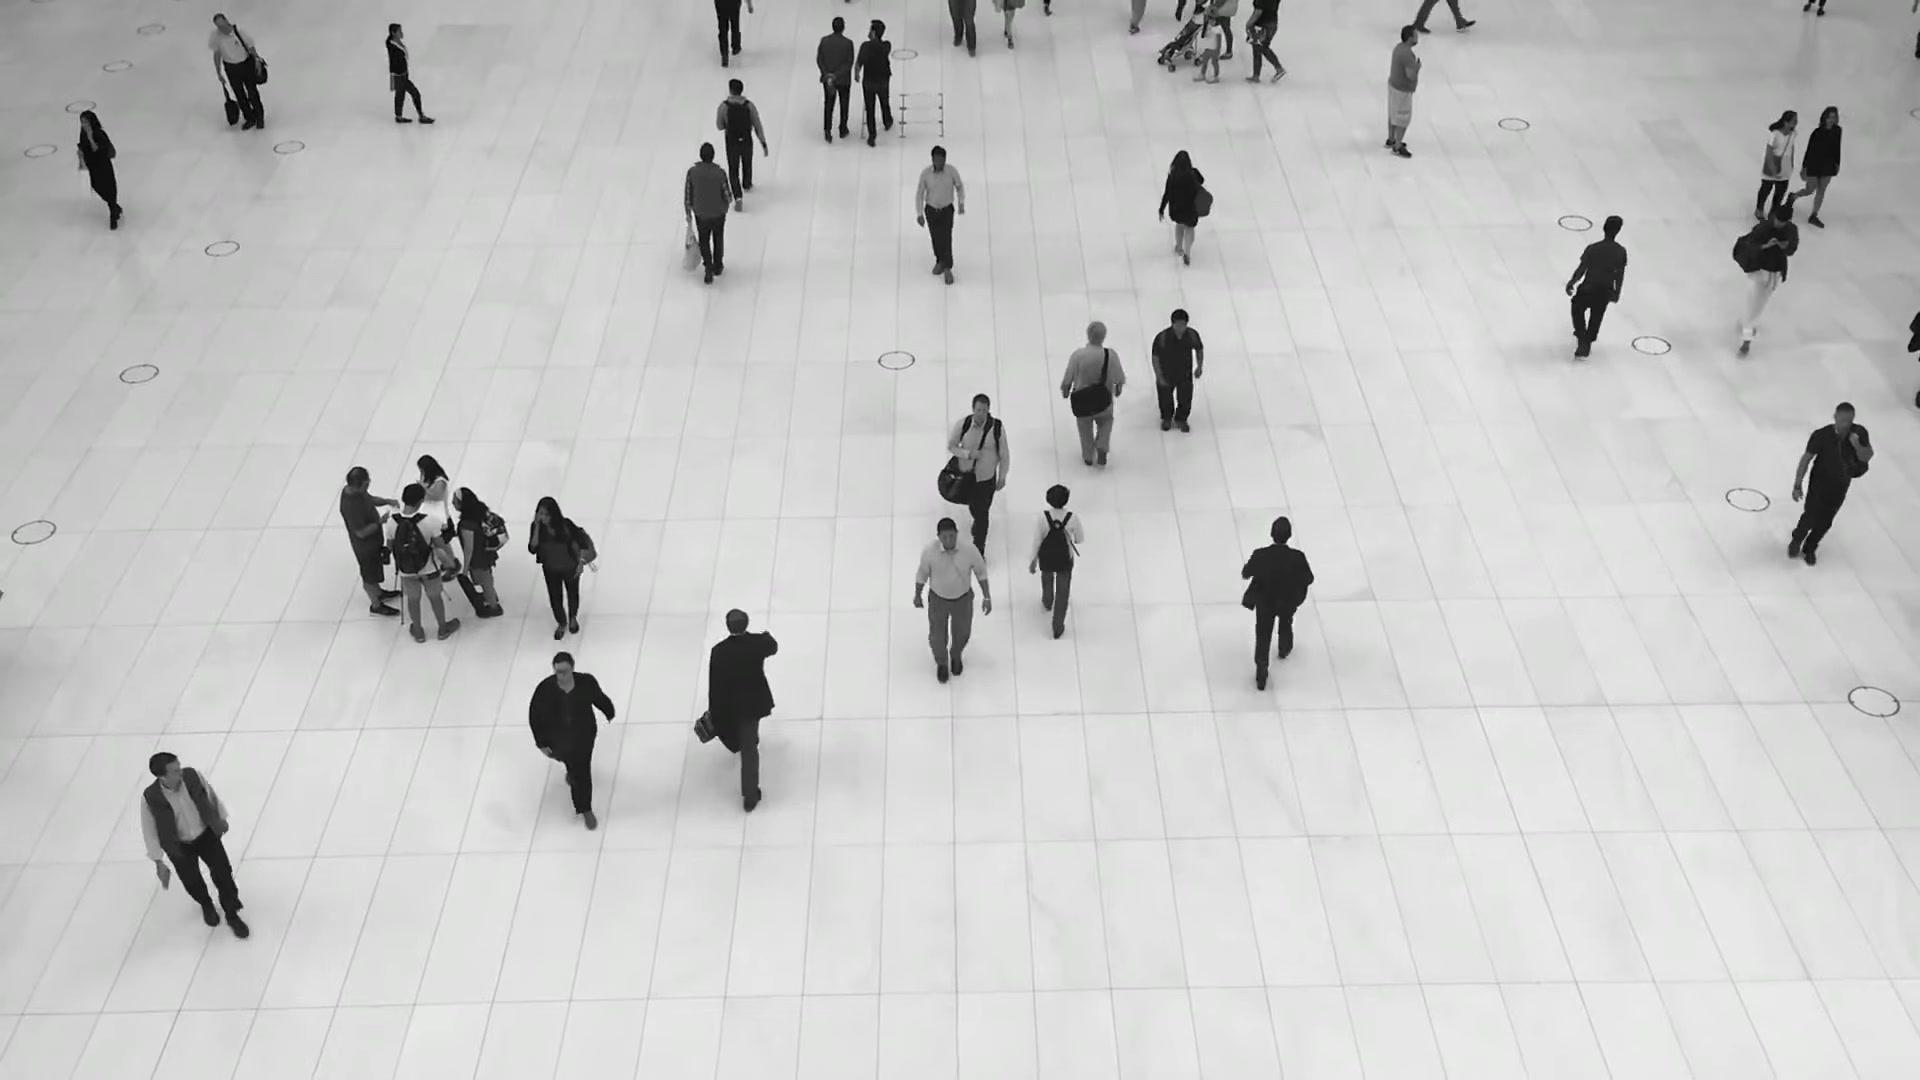person: (140, 750, 234, 937), (526, 647, 613, 825), (1787, 403, 1872, 576), (707, 607, 780, 802), (913, 517, 990, 683), (1237, 515, 1315, 682), (383, 483, 458, 644), (947, 389, 1010, 562), (527, 494, 597, 642), (1730, 201, 1798, 349), (1061, 324, 1125, 483), (1564, 217, 1626, 370), (339, 466, 400, 618), (1030, 483, 1083, 632), (681, 145, 732, 292), (1148, 308, 1204, 437), (915, 143, 966, 280), (714, 79, 766, 210), (207, 13, 264, 134), (451, 487, 503, 618), (1788, 105, 1840, 232), (1161, 151, 1213, 272), (76, 109, 123, 231), (415, 455, 459, 582), (1383, 24, 1421, 159), (814, 17, 852, 146), (854, 19, 892, 145), (1753, 109, 1797, 213), (381, 21, 419, 124), (1192, 15, 1224, 84)
